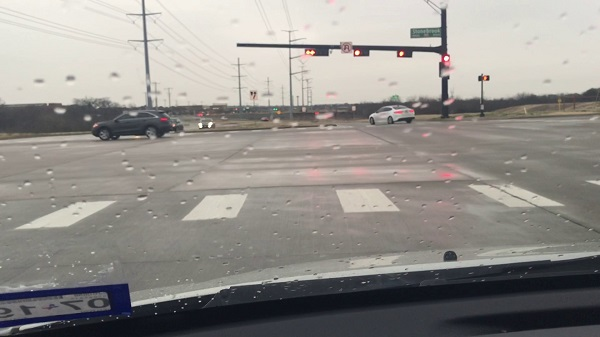car: (91, 113, 170, 141), (369, 106, 415, 123), (198, 118, 213, 130)
